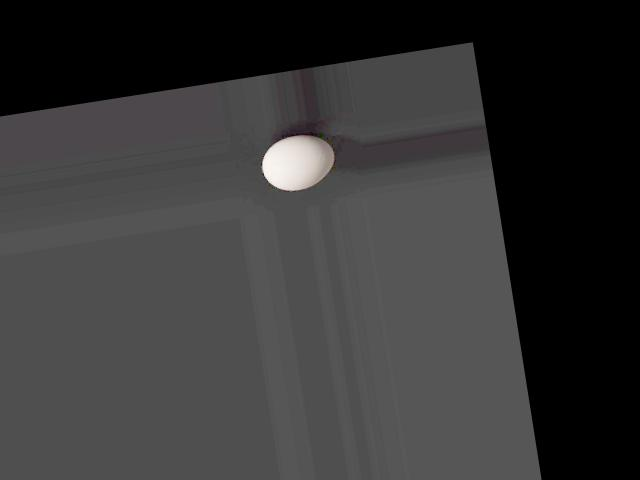egg: (257, 130, 338, 194)
